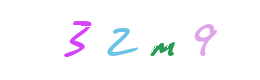2: (89, 0, 169, 80)
3: (84, 0, 164, 80)
9: (123, 0, 203, 80)
M: (92, 0, 172, 80)
